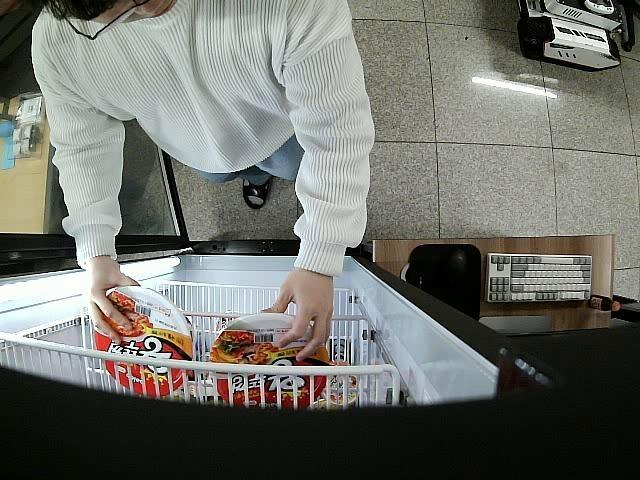10_wangTtukkeong: (94, 286, 192, 398), (211, 313, 327, 407)
